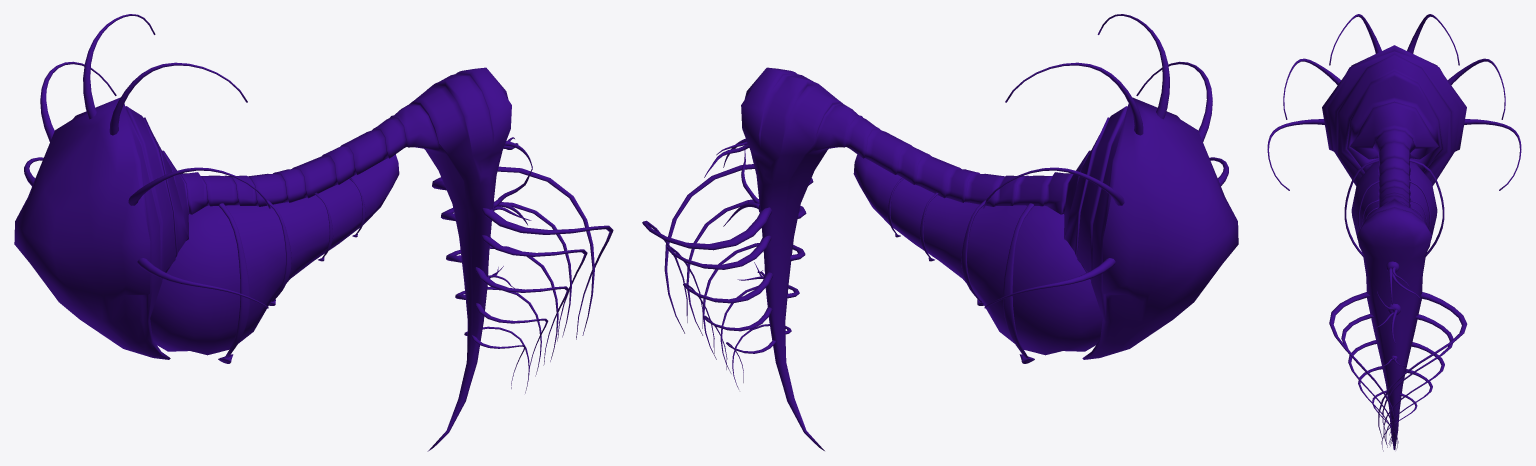
File: amy_spaceship_stage02.obj
3 renders of one model, left to right at view 1: azimuth 30°, elevation 25°; view 2: azimuth 150°, elevation 25°; view 3: azimuth 270°, elevation 25°, orthographic. The views are drawn at different scales.
Visible parts, largest first — view 1: body; view 2: body; view 3: body.
Part boxes in pixels (box(x1,y1,x2,y2)): body: box(14, 14, 613, 451); body: box(642, 14, 1238, 450); body: box(1267, 14, 1521, 451).
Bounding box in the file's own units: 1483 × 1193 × 817.
